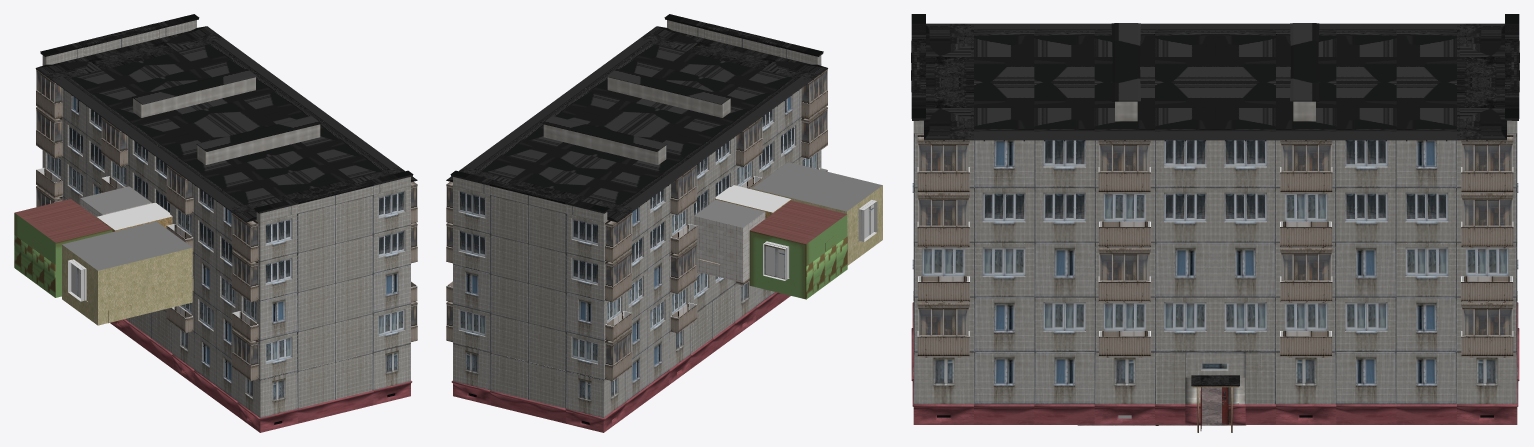
Rendered from DomGlav.fbx.
The picture shows the model from 3 angles, left to right: view 1: azimuth 30°, elevation 25°; view 2: azimuth 150°, elevation 25°; view 3: azimuth 270°, elevation 25°; orthographic projection. The views are drawn at different scales.
Visible parts, largest first — view 1: Window.045, Cube.042, Cube.013, Window.001, Cube.041, Cube.043; view 2: Window.045, Cube.042, Cube.041, Cube.026, Window.001, Cube.013, Cube.043, Window.003; view 3: Window.045, Window.002, Window.004, Cube.
Boxes of the visible parts, box(x1,y1,x2,y2) form: Window.045: box(35, 14, 417, 432); Cube.042: box(15, 186, 192, 270); Cube.013: box(62, 245, 192, 325); Window.001: box(128, 309, 172, 368); Cube.041: box(14, 213, 112, 297); Cube.043: box(14, 235, 55, 297); Window.045: box(446, 14, 827, 432); Cube.042: box(694, 162, 882, 243); Cube.041: box(749, 214, 847, 299); Cube.026: box(693, 212, 765, 282); Window.001: box(690, 285, 735, 368); Cube.013: box(752, 185, 882, 265); Cube.043: box(806, 236, 847, 299); Window.003: box(765, 246, 784, 278); Window.045: box(911, 14, 1519, 424); Window.002: box(1155, 352, 1275, 424); Window.004: box(1185, 352, 1245, 432); Cube: box(1077, 164, 1245, 425).
Size of the model in its own units: 2254 by 1758 by 3026.
